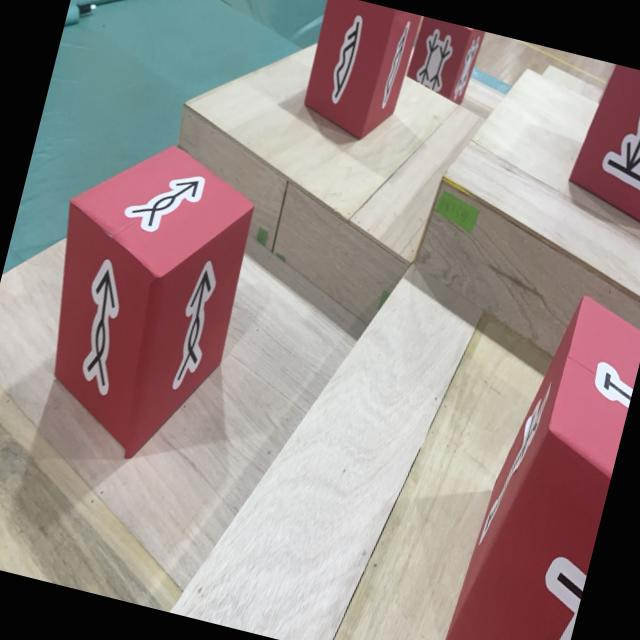11: (326, 11, 366, 108), (381, 20, 408, 109)
12: (65, 257, 139, 397), (165, 255, 226, 396), (121, 158, 207, 242)
6: (412, 26, 457, 94), (452, 33, 482, 103)
7: (597, 66, 640, 195)
9: (478, 374, 552, 552), (514, 552, 588, 640), (588, 359, 638, 408)
fighter: (12, 123, 268, 476), (434, 280, 640, 640), (295, 0, 420, 147), (560, 59, 640, 236), (404, 16, 484, 105)
